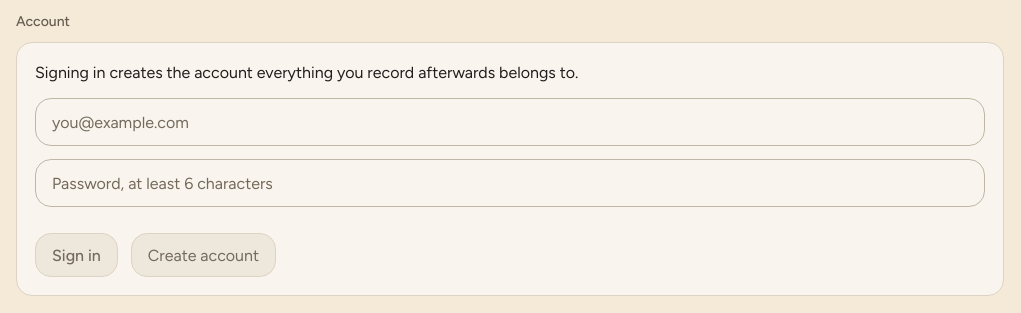
sign-in › says the role is not readable rather than guessing one
The width and height of the screenshot is (1021, 313).
Expected: the text "Signing in creates the account" is shown, [35,63,578,82]
Type "a@example.com" into the field with placeholder "you@example.com" at (510, 122), box [35,98,985,146]
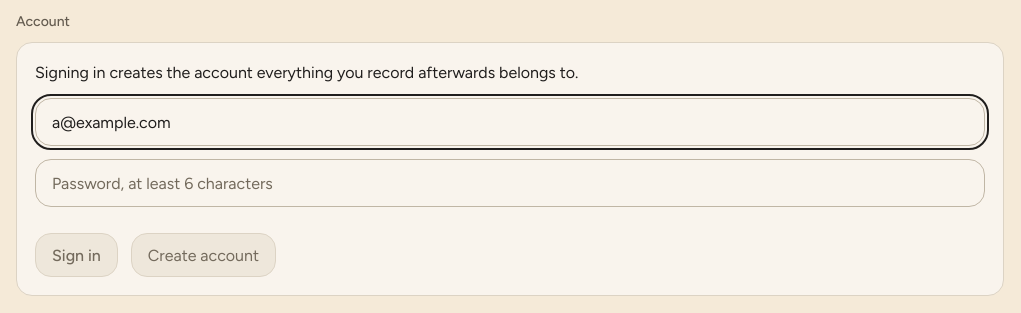
Type "hunter2" into the password field with placeholder "Password, at least 6 characters" at (510, 184), box [35,160,985,208]
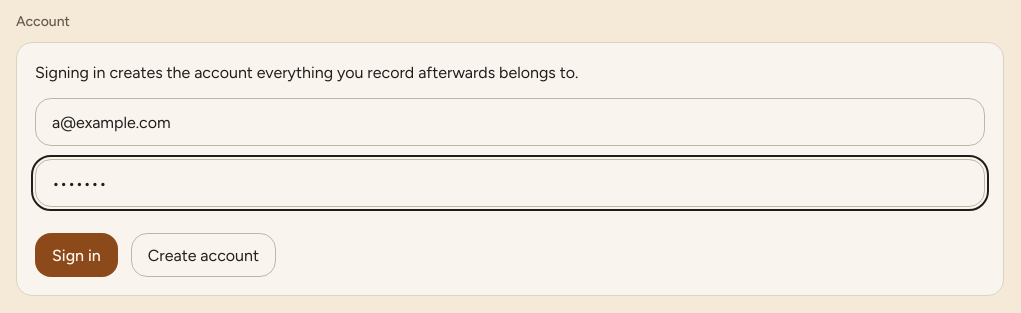
Click the button "Sign in" at (76, 256), box [35,234,118,278]
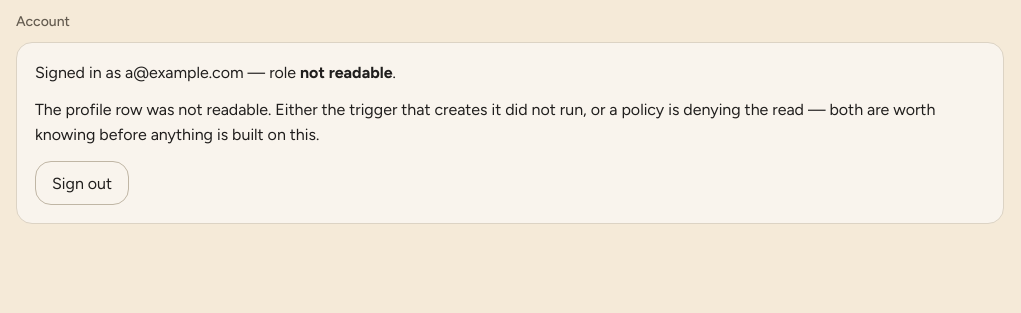
Expected: the text "not readable" is shown, [300,63,392,82]
Expected: the text "policy is denying the read" is shown, [35,100,935,144]
